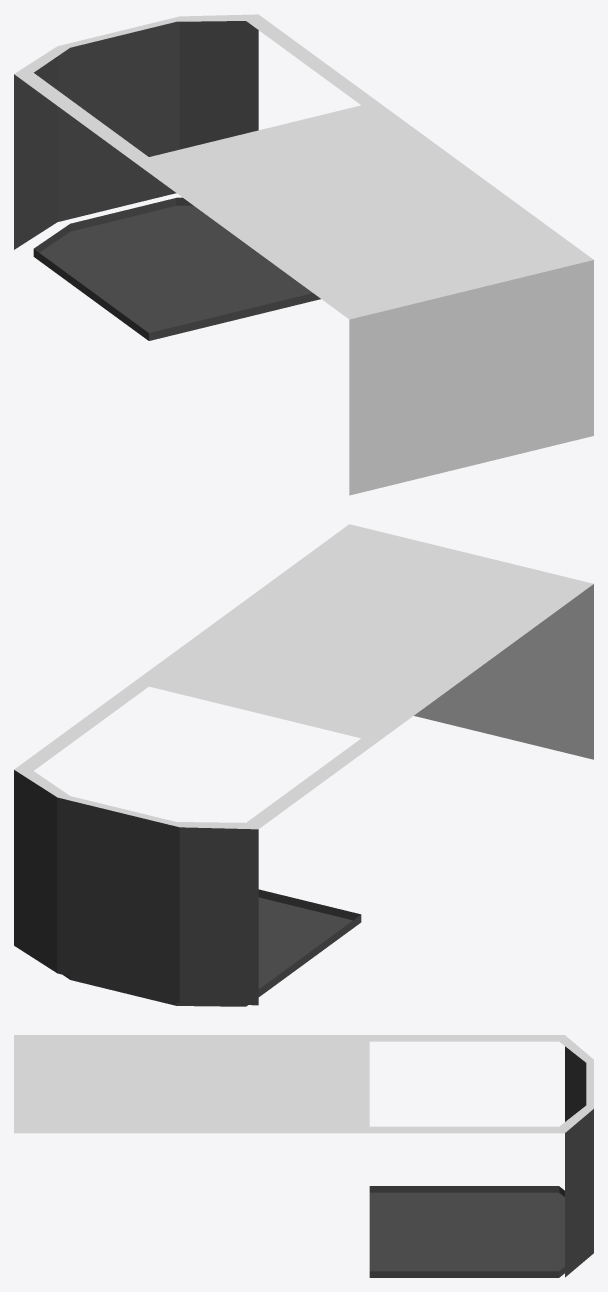
The model's file is Lift_02_Walls_Level_01.fbx.
The picture shows the model from 3 angles, top to bottom: view 1: azimuth 30°, elevation 25°; view 2: azimuth 150°, elevation 25°; view 3: azimuth 270°, elevation 25°; orthographic projection. The views are drawn at different scales.
Visible parts, largest first — view 1: Lift_02_Walls_Level_01; view 2: Lift_02_Walls_Level_01; view 3: Lift_02_Walls_Level_01.
Part boxes in pixels (left/top/right/bottom): Lift_02_Walls_Level_01: left=14, top=14, right=593, bottom=495; Lift_02_Walls_Level_01: left=14, top=524, right=593, bottom=1006; Lift_02_Walls_Level_01: left=14, top=1035, right=593, bottom=1277.
Size of the model in its own units: 1600 by 1150 by 4000.
